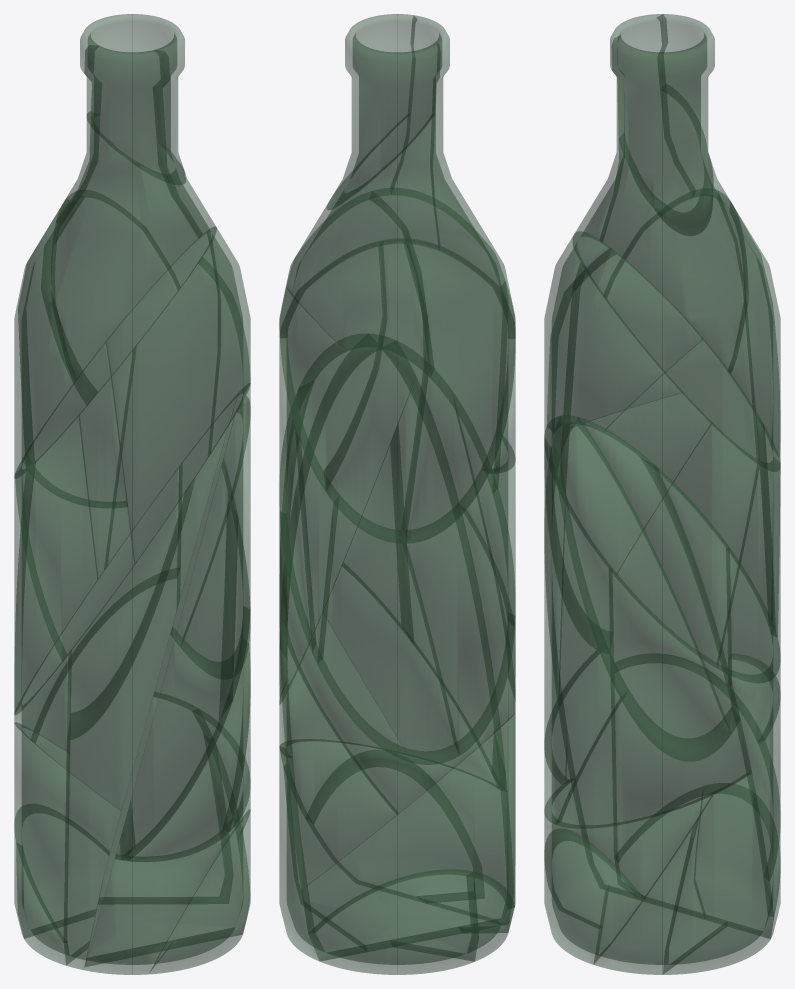
The model's file is fragments.glb.
3 views of the same model, side by side, from view 1: azimuth 30°, elevation 25°; view 2: azimuth 150°, elevation 25°; view 3: azimuth 270°, elevation 25° (orthographic).
Visible parts, largest first — view 1: fragment-003-green, fragment-023-green, fragment-001-green, fragment-030-green, fragment-008-green, fragment-012-green, fragment-020-green, fragment-019-green, fragment-026-green, fragment-006-green, fragment-011-green, fragment-015-green (+21 smaller); view 2: fragment-011-green, fragment-004-green, fragment-005-green, fragment-021-green, fragment-020-green, fragment-010-green, fragment-001-green, fragment-030-green, fragment-028-green, fragment-019-green, fragment-007-green, fragment-009-green (+20 smaller); view 3: fragment-016-green, fragment-008-green, fragment-004-green, fragment-007-green, fragment-009-green, fragment-005-green, fragment-006-green, fragment-010-green, fragment-012-green, fragment-025-green, fragment-003-green, fragment-023-green (+20 smaller).
Boxes of the visible parts, bbox=[...] form: fragment-003-green: bbox=[51, 45, 202, 381]; fragment-023-green: bbox=[63, 414, 234, 969]; fragment-001-green: bbox=[106, 229, 220, 564]; fragment-030-green: bbox=[119, 458, 238, 860]; fragment-008-green: bbox=[107, 263, 250, 565]; fragment-012-green: bbox=[99, 697, 224, 897]; fragment-020-green: bbox=[51, 197, 177, 391]; fragment-019-green: bbox=[36, 578, 176, 810]; fragment-026-green: bbox=[15, 454, 135, 661]; fragment-006-green: bbox=[80, 14, 185, 183]; fragment-011-green: bbox=[14, 414, 97, 713]; fragment-015-green: bbox=[84, 711, 250, 974]; fragment-011-green: bbox=[317, 495, 459, 764]; fragment-004-green: bbox=[401, 238, 515, 543]; fragment-005-green: bbox=[301, 714, 515, 933]; fragment-021-green: bbox=[323, 238, 429, 543]; fragment-020-green: bbox=[280, 240, 387, 491]; fragment-010-green: bbox=[398, 504, 514, 754]; fragment-001-green: bbox=[370, 195, 504, 492]; fragment-030-green: bbox=[398, 392, 493, 772]; fragment-028-green: bbox=[308, 869, 479, 974]; fragment-019-green: bbox=[280, 619, 398, 889]; fragment-007-green: bbox=[279, 114, 440, 337]; fragment-009-green: bbox=[286, 200, 430, 377]; fragment-016-green: bbox=[552, 415, 731, 761]; fragment-008-green: bbox=[603, 338, 775, 631]; fragment-004-green: bbox=[607, 190, 756, 458]; fragment-007-green: bbox=[599, 91, 748, 373]; fragment-009-green: bbox=[546, 248, 702, 432]; fragment-005-green: bbox=[614, 663, 780, 916]; fragment-006-green: bbox=[611, 14, 714, 236]; fragment-010-green: bbox=[617, 423, 757, 662]; fragment-012-green: bbox=[663, 773, 773, 974]; fragment-025-green: bbox=[556, 690, 751, 828]; fragment-003-green: bbox=[573, 14, 693, 297]; fragment-023-green: bbox=[544, 416, 642, 895].
Size of the model in its own units: 0.072 by 0.3 by 0.072.
Materials: 1 (1 with a texture image).
